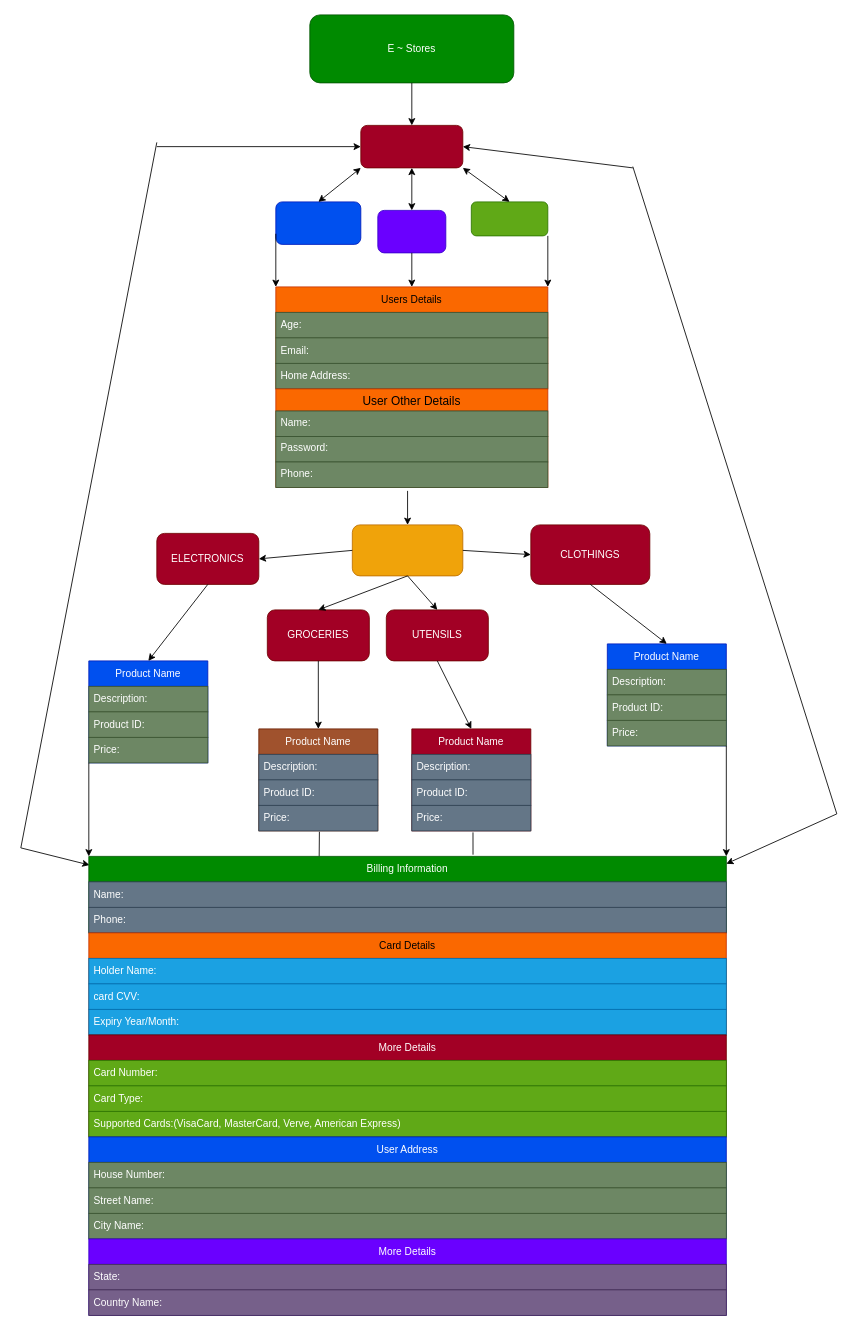
Image size: 859x1330. Some labels were removed from this diagram. The shapes that lost their labels are listed below. From the top down, each one's centre as x and y in pixels, then its label:
(x=411, y=146): USERS
(x=318, y=222): Customers
(x=411, y=231): Sellers
(x=509, y=218): Admin
(x=407, y=550): SHOPPING CART ITEMS
